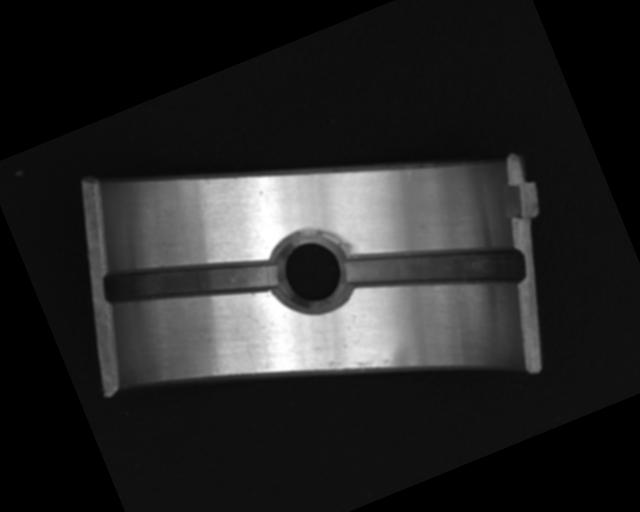gap: (341, 198, 525, 339), (96, 215, 280, 348)
hole: (257, 216, 364, 327)
